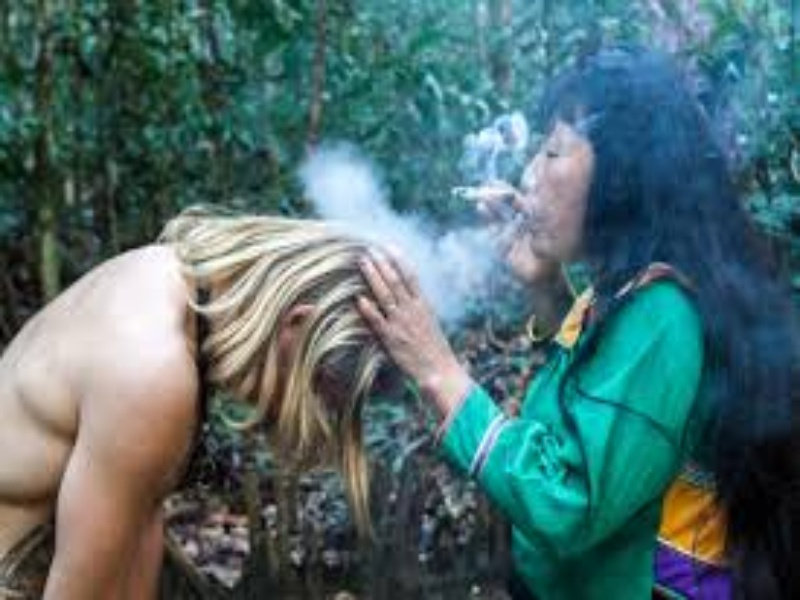smoke: (320, 152, 508, 296)
